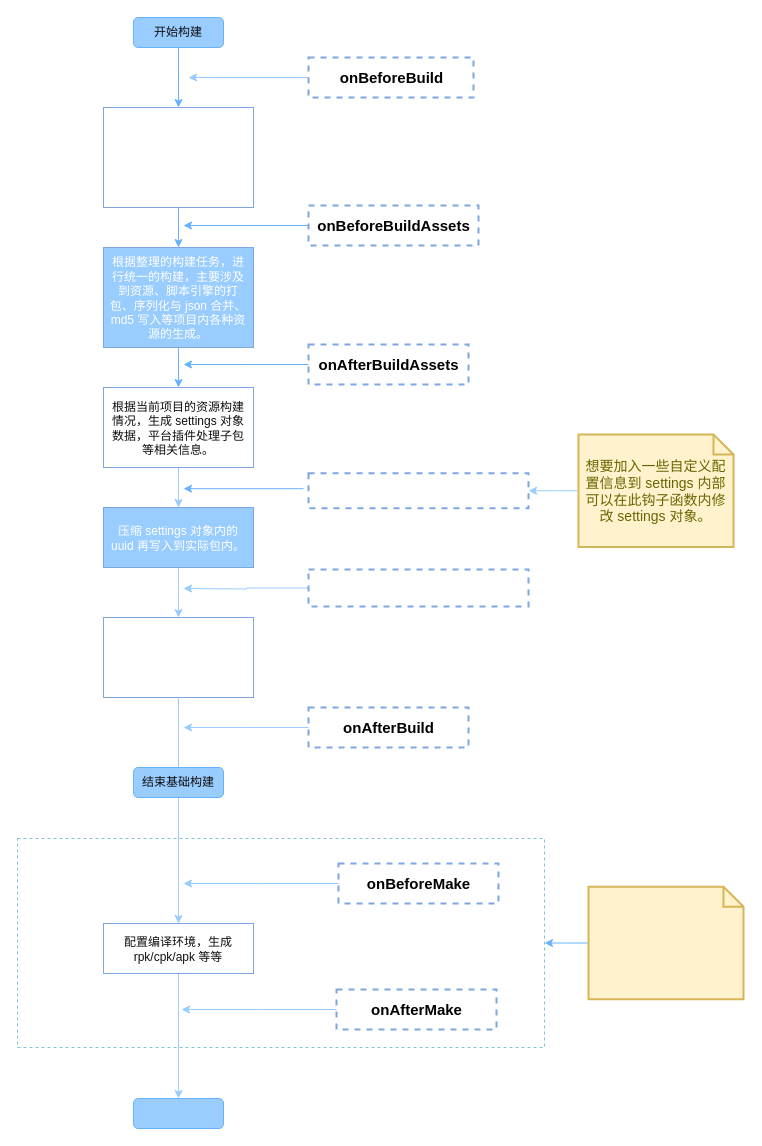
The diagram is 762 pixels wide and 1146 high, and some of its shapes have lost their labels. Each missing label, with the centre of its shape:
onAfterCompressSettings: (x=418, y=587)
onBeforeCompressSettings: (x=418, y=490)
仅在部分支持生成流程的平台构建时会有这部分钩子，例如原生平台、华为快游戏这类。: (x=665, y=942)
拷贝处理平台构建模板以及不同平台的 adapter 生成或者编译 rpk 等。: (x=178, y=657)
构建 options 数据初始化，资源信息库初始化，任务数据整理，加载用户脚本，查询本次构建所有任务信息: (x=178, y=157)
结束构建: (x=178, y=1113)
